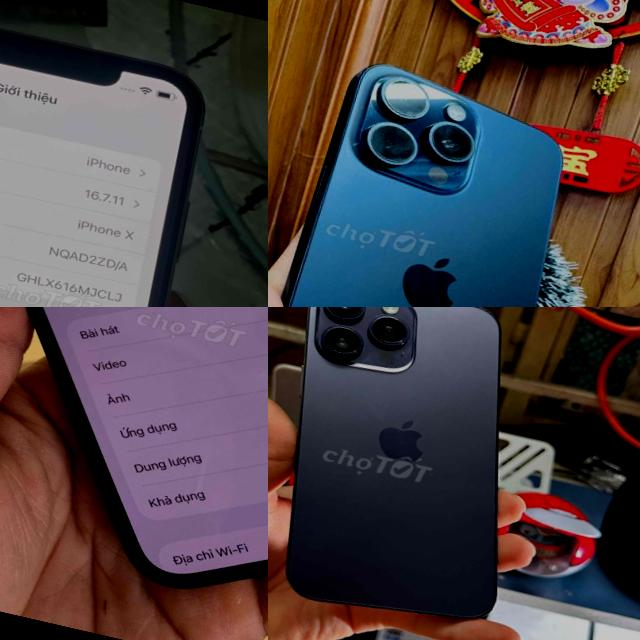gen_12_13: (0, 307, 268, 640)
gen_14: (268, 307, 571, 640)
gen_15: (268, 38, 614, 307)
gen_x_xs: (0, 0, 232, 307)
